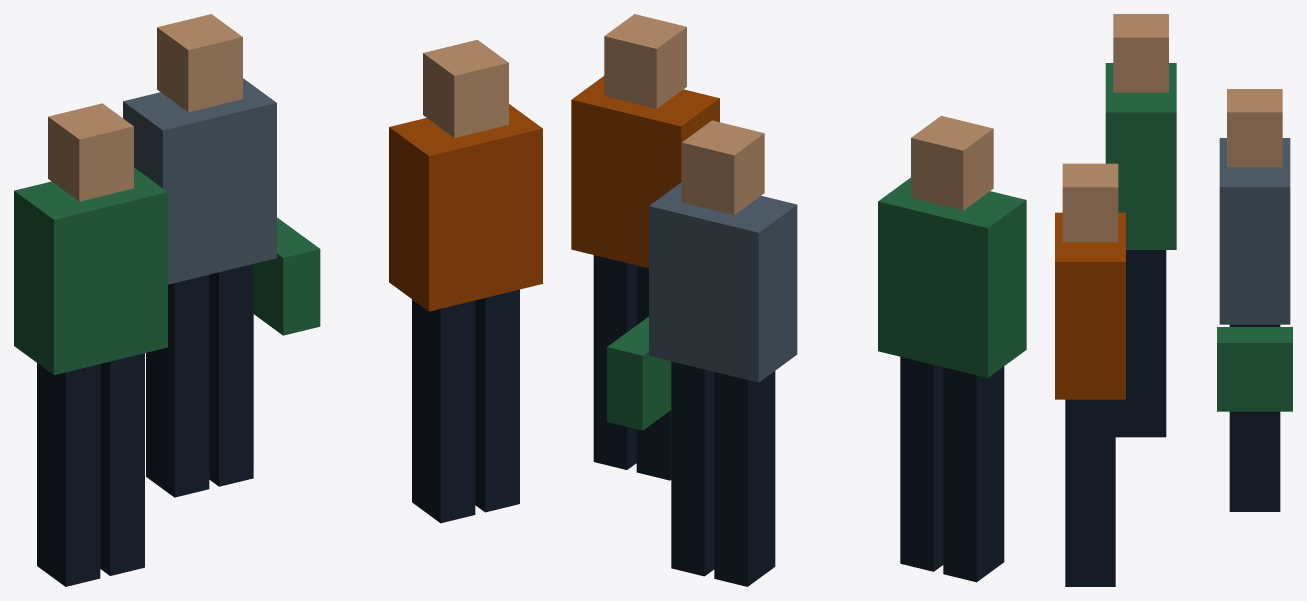
File: walkers.glb
The picture shows the model from 3 angles, left to right: view 1: azimuth 30°, elevation 25°; view 2: azimuth 150°, elevation 25°; view 3: azimuth 270°, elevation 25°; orthographic projection. The views are drawn at different scales.
Visible parts, largest first — view 1: walkers; view 2: walkers; view 3: walkers.
Boxes of the visible parts, x1,y1,x2,y2 form: walkers: (14,14,542,586); walkers: (571,14,1026,586); walkers: (1055,14,1292,586).
Size of the model in its own units: 1.86 by 1.72 by 0.94.
